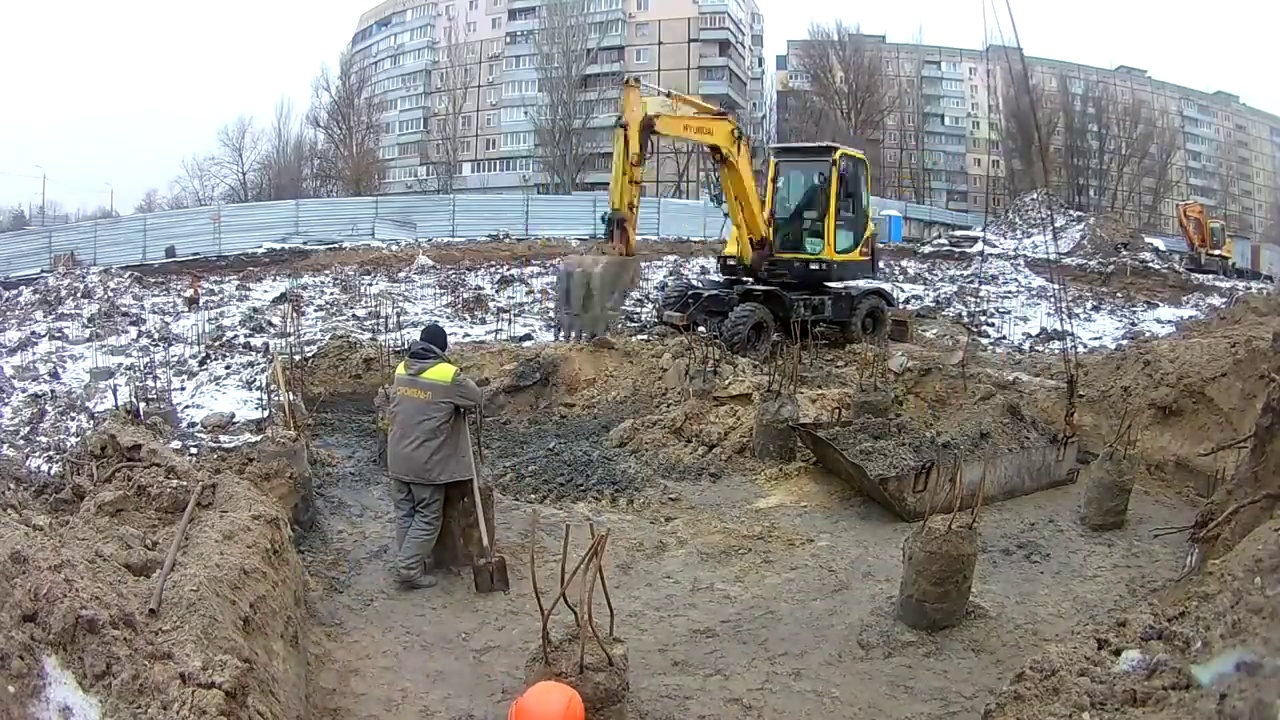helmet: (507, 679, 586, 720)
helmet-off: (409, 327, 448, 365)
person: (382, 325, 480, 593)
